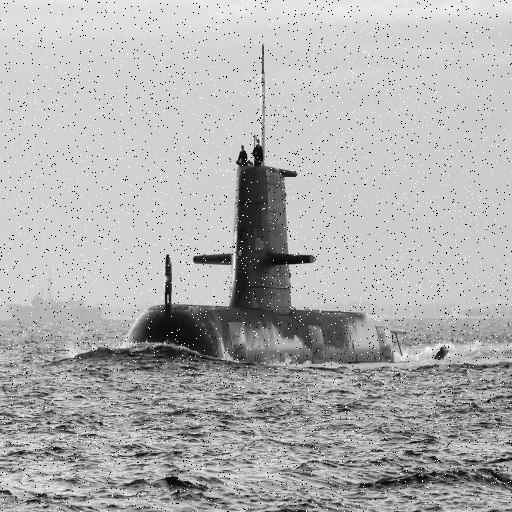submarine: (117, 36, 455, 377)
